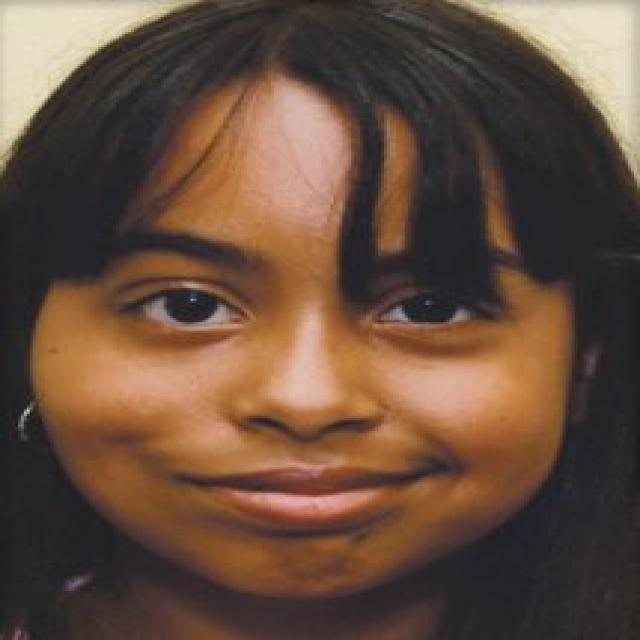normal_face: (72, 53, 497, 573)
